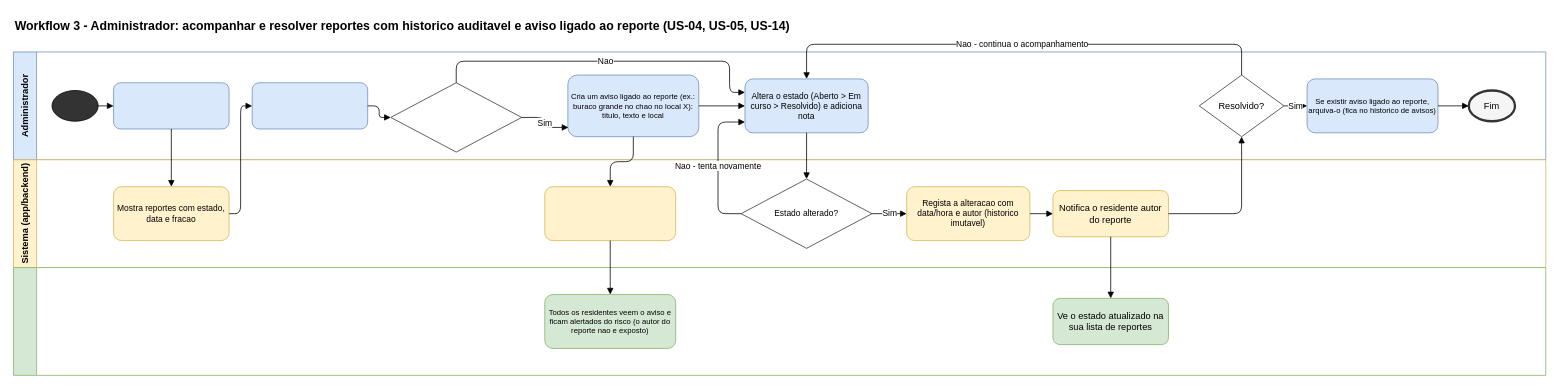
Image size: 1559x389. Some labels were removed from this diagram. The box of each missing label's shape, as (x1, y1, x2, y2) in pixels:
Abre a lista unica de reportes e filtra por estado: (113, 82, 229, 129)
Analisa o reporte (duplicados: ver Workflow 2): (251, 82, 368, 129)
Inicio: (51, 90, 98, 121)
O reporte representa um risco para os residentes?: (390, 82, 522, 152)
Publica o aviso no quadro de avisos, liga-o ao reporte e notifica os residentes: (544, 186, 676, 241)
Residente (autor do reporte): (13, 267, 1546, 375)
